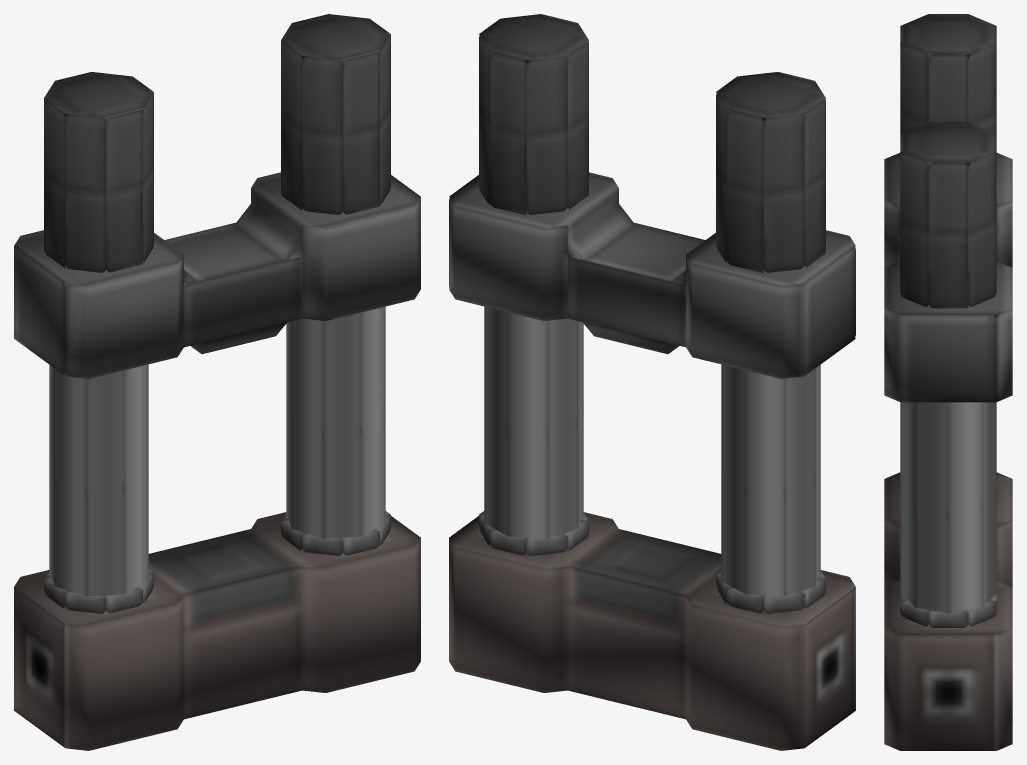
Rendered from steam_press.obj.
3 views of the same model, side by side, from view 1: azimuth 30°, elevation 25°; view 2: azimuth 150°, elevation 25°; view 3: azimuth 270°, elevation 25° (orthographic). The views are drawn at different scales.
Visible parts, largest first — view 1: base, press_head; view 2: base, press_head; view 3: press_head, base.
Boxes of the visible parts, left/top/right/bottom form: base: left=14, top=306, right=420, bottom=750; press_head: left=14, top=14, right=420, bottom=378; base: left=449, top=306, right=855, bottom=750; press_head: left=449, top=14, right=855, bottom=378; press_head: left=884, top=14, right=1012, bottom=402; base: left=884, top=402, right=1012, bottom=750.
Bounding box in the file's own units: 3 × 5 × 1.
